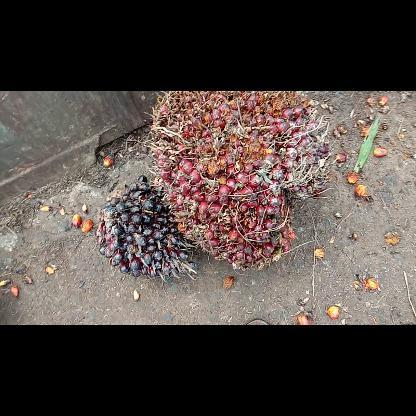TBS abnormal: (96, 174, 200, 284)
TBS masak: (144, 92, 328, 270)
